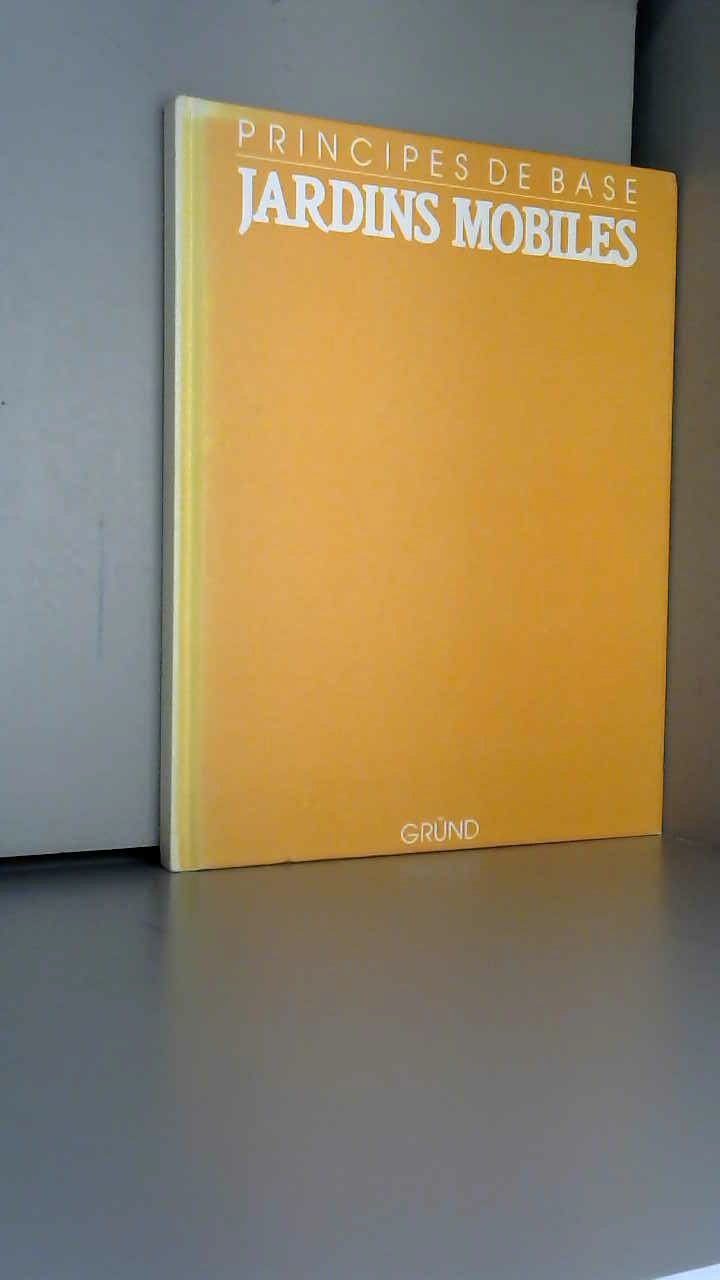book: (130, 70, 720, 940)
